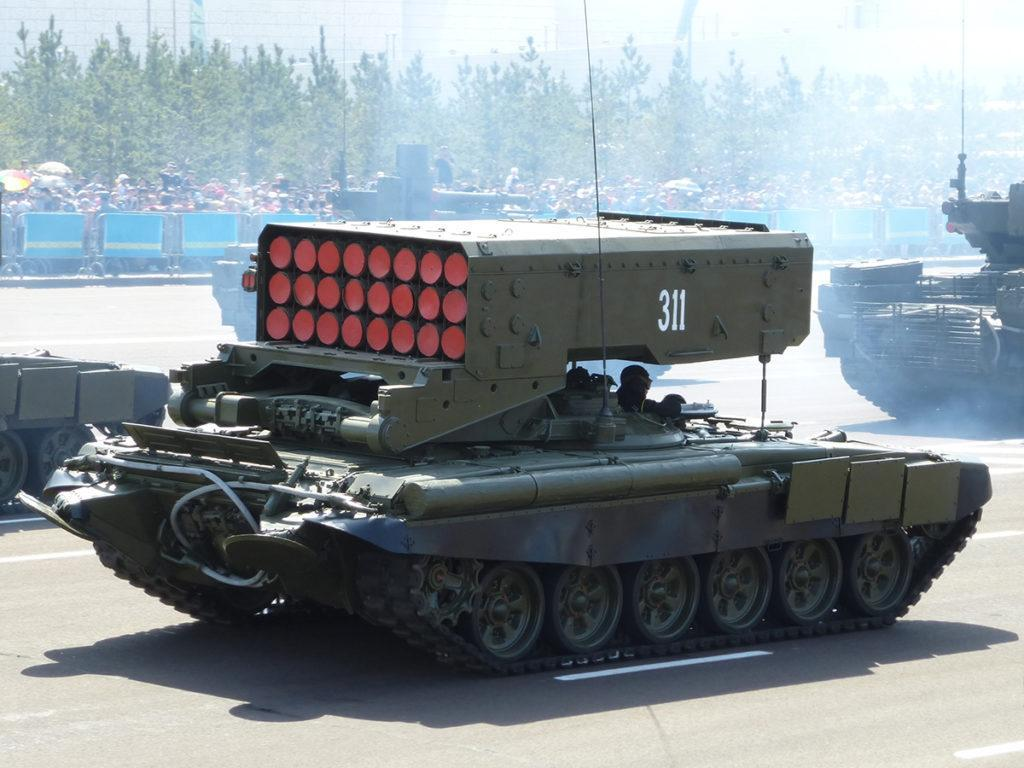rszo: (88, 201, 999, 684), (809, 173, 1024, 413)
tank: (1, 322, 166, 548), (213, 140, 555, 234)
